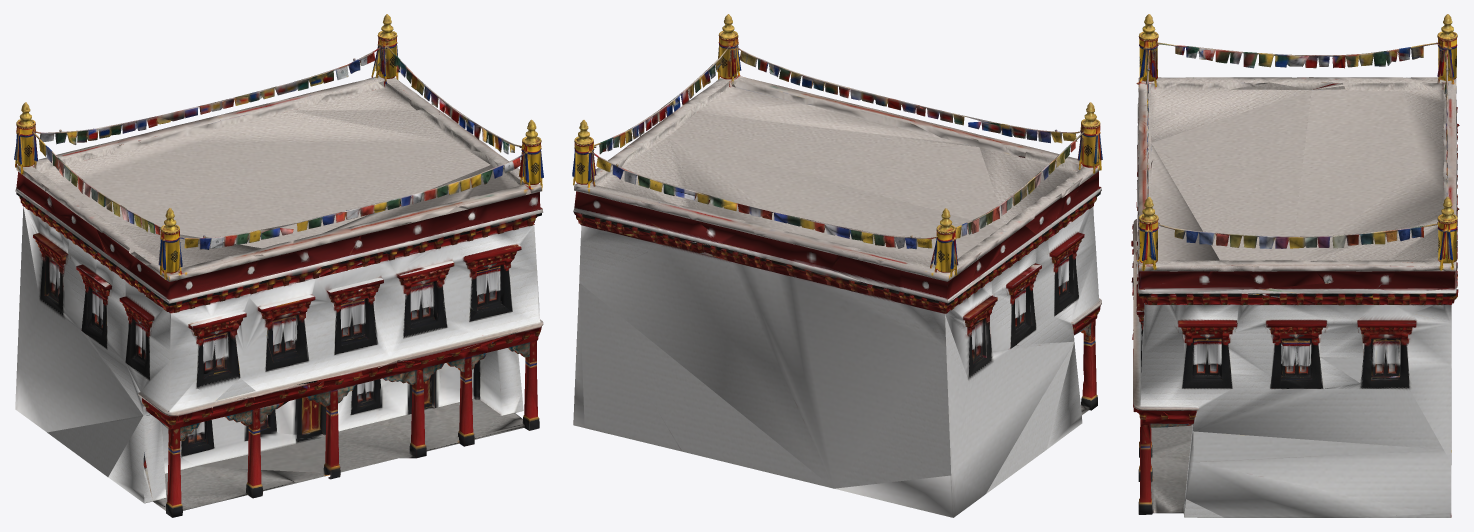
The model's file is monk_quarters_35k.glb.
The picture shows the model from 3 angles, left to right: view 1: azimuth 30°, elevation 25°; view 2: azimuth 150°, elevation 25°; view 3: azimuth 270°, elevation 25°; orthographic projection. The views are drawn at different scales.
Parts seen in each view (by area): view 1: output_unwrapped; view 2: output_unwrapped; view 3: output_unwrapped.
Boxes of the visible parts, bbox=[...] form: output_unwrapped: bbox=[14, 14, 543, 517]; output_unwrapped: bbox=[572, 14, 1102, 517]; output_unwrapped: bbox=[1131, 14, 1459, 517].
Size of the model in its own units: 10.42 by 8 by 7.52.
1 material, 1 textured.
